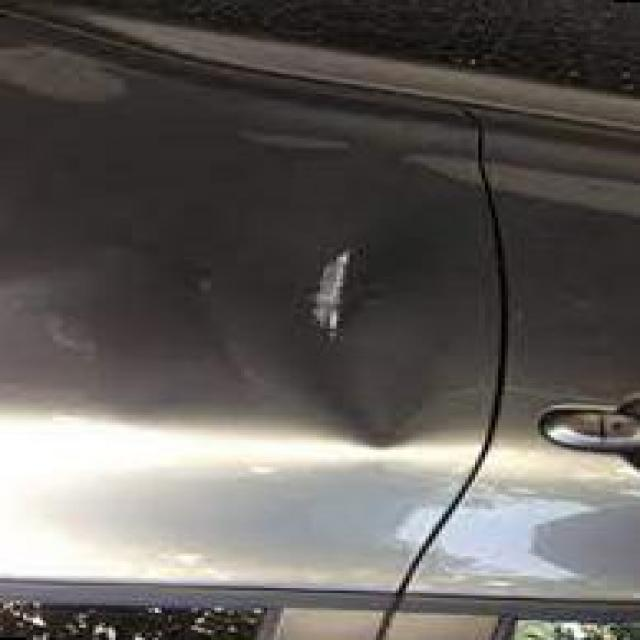dent: (239, 206, 460, 471)
